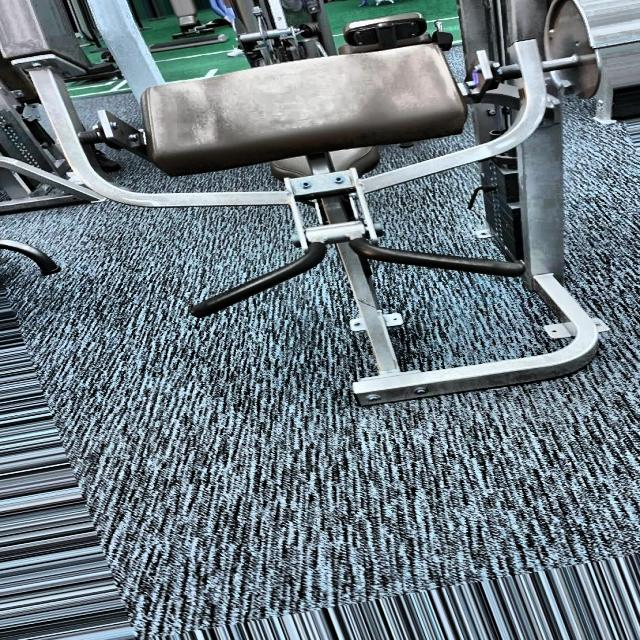bicep_curl_machine: (54, 1, 624, 477)
